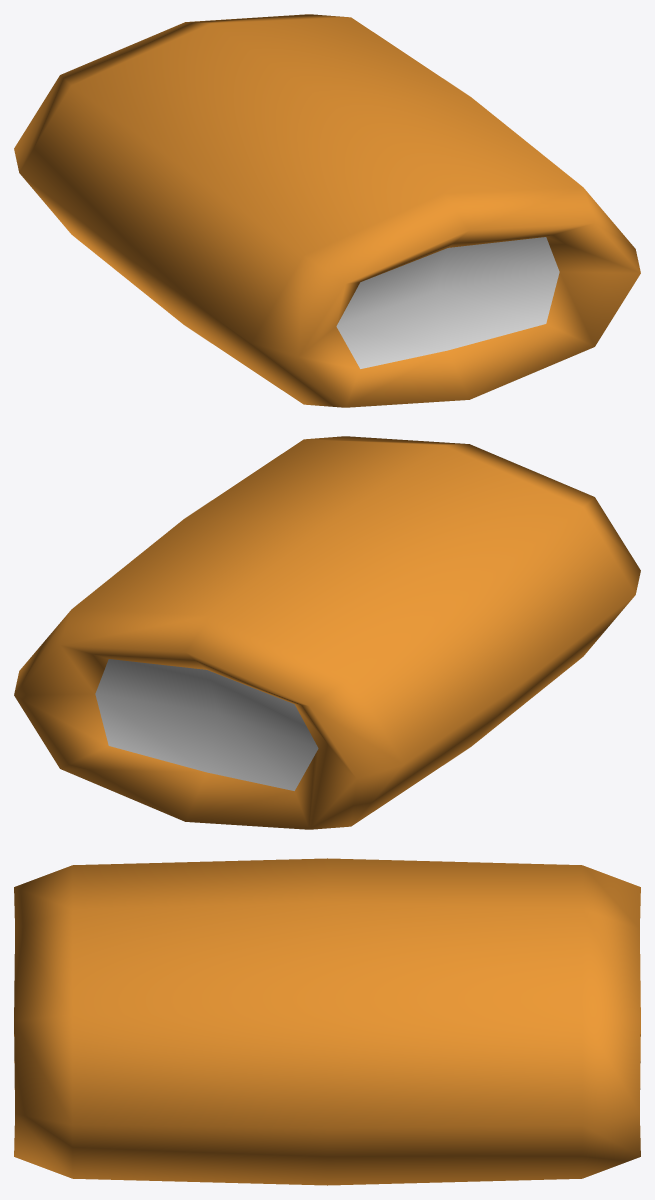
Rendered from SM_Oreiller.fbx.
3 renders of one model, top to bottom at view 1: azimuth 30°, elevation 25°; view 2: azimuth 150°, elevation 25°; view 3: azimuth 270°, elevation 25°, orthographic. The views are drawn at different scales.
Parts seen in each view (by area): view 1: Oreiller; view 2: Oreiller; view 3: Oreiller.
Part boxes in pixels (left/top/right/bottom): Oreiller: left=14, top=14, right=640, bottom=407; Oreiller: left=14, top=436, right=640, bottom=829; Oreiller: left=14, top=858, right=640, bottom=1185.
Bounding box in the file's own units: 421 × 220 × 527.
